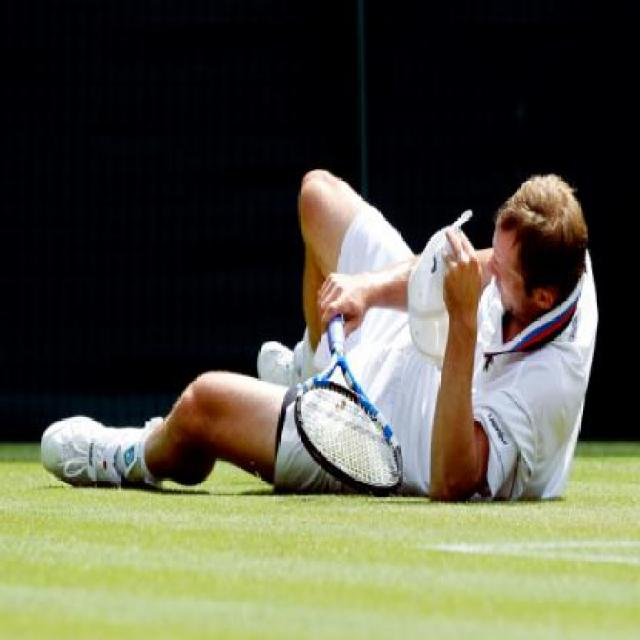fall: (33, 136, 605, 499)
